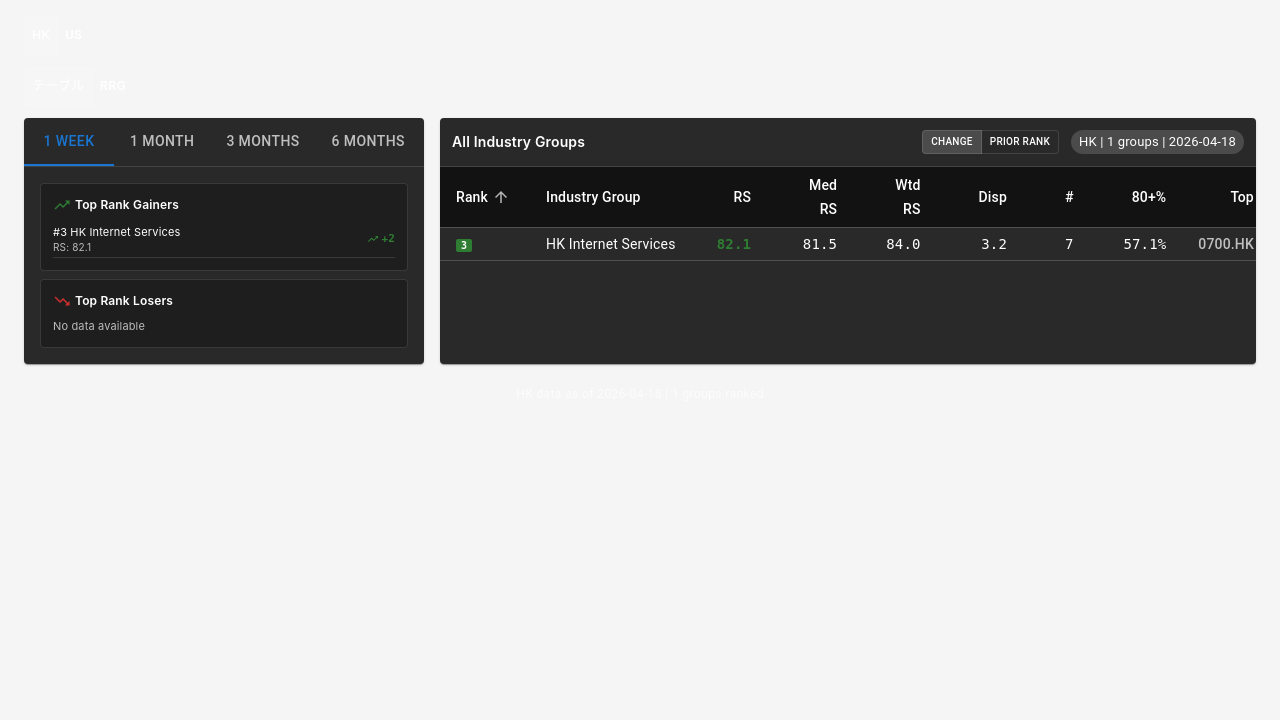
Test: GroupRankingsPage › shows an inline error state when the Charts tab batch fetch fails
This screenshot has width=1280, height=720.
Click the text "HK Internet Services" at (611, 244), box [530, 228, 692, 260]
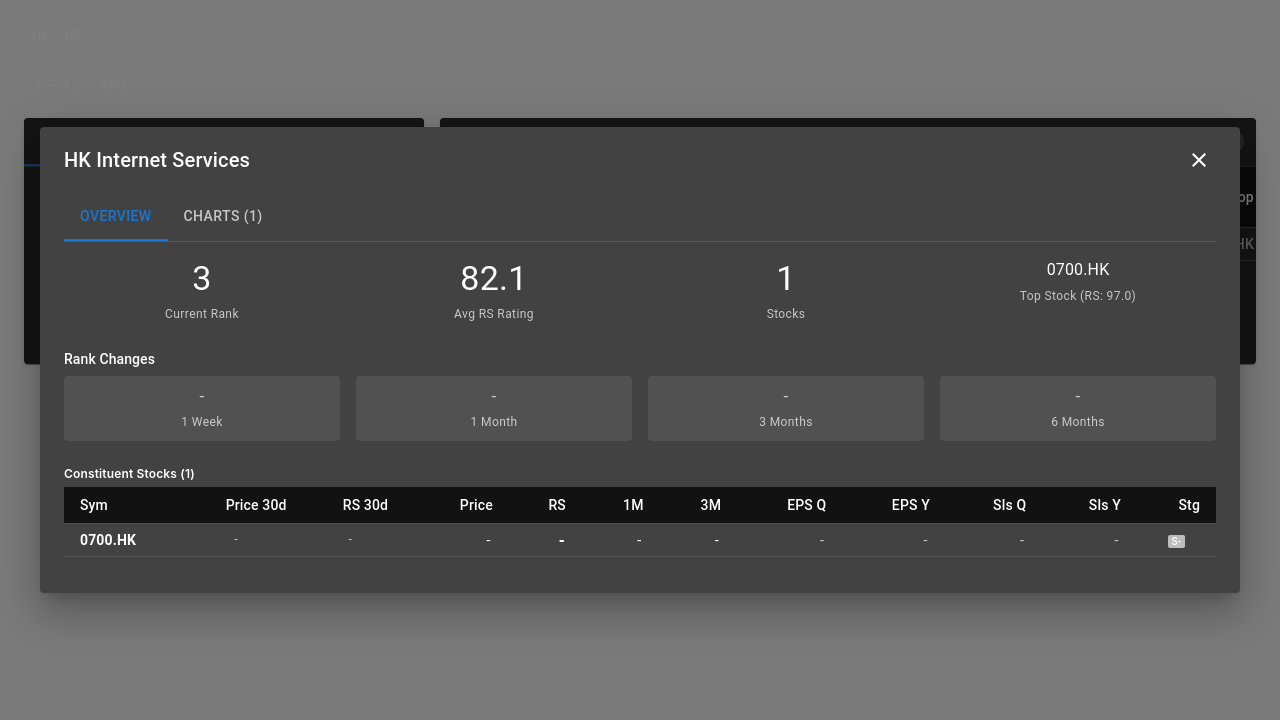
Click the tab "Charts (1)" at (223, 217), box [168, 193, 279, 241]
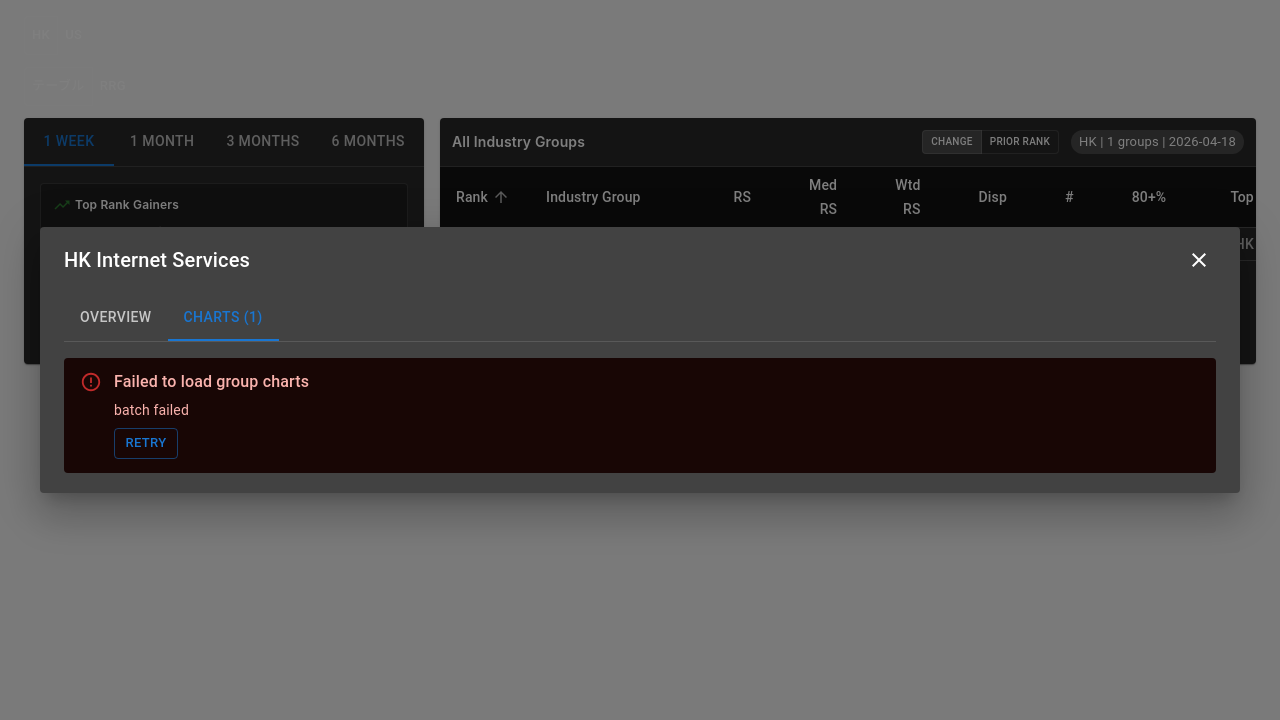
Expected: the text "Failed to load group charts" is shown, [114, 370, 309, 394]
Expected: the text "batch failed" is shown, [114, 402, 189, 418]
Expected: the button "Retry" is shown, [114, 428, 178, 459]
